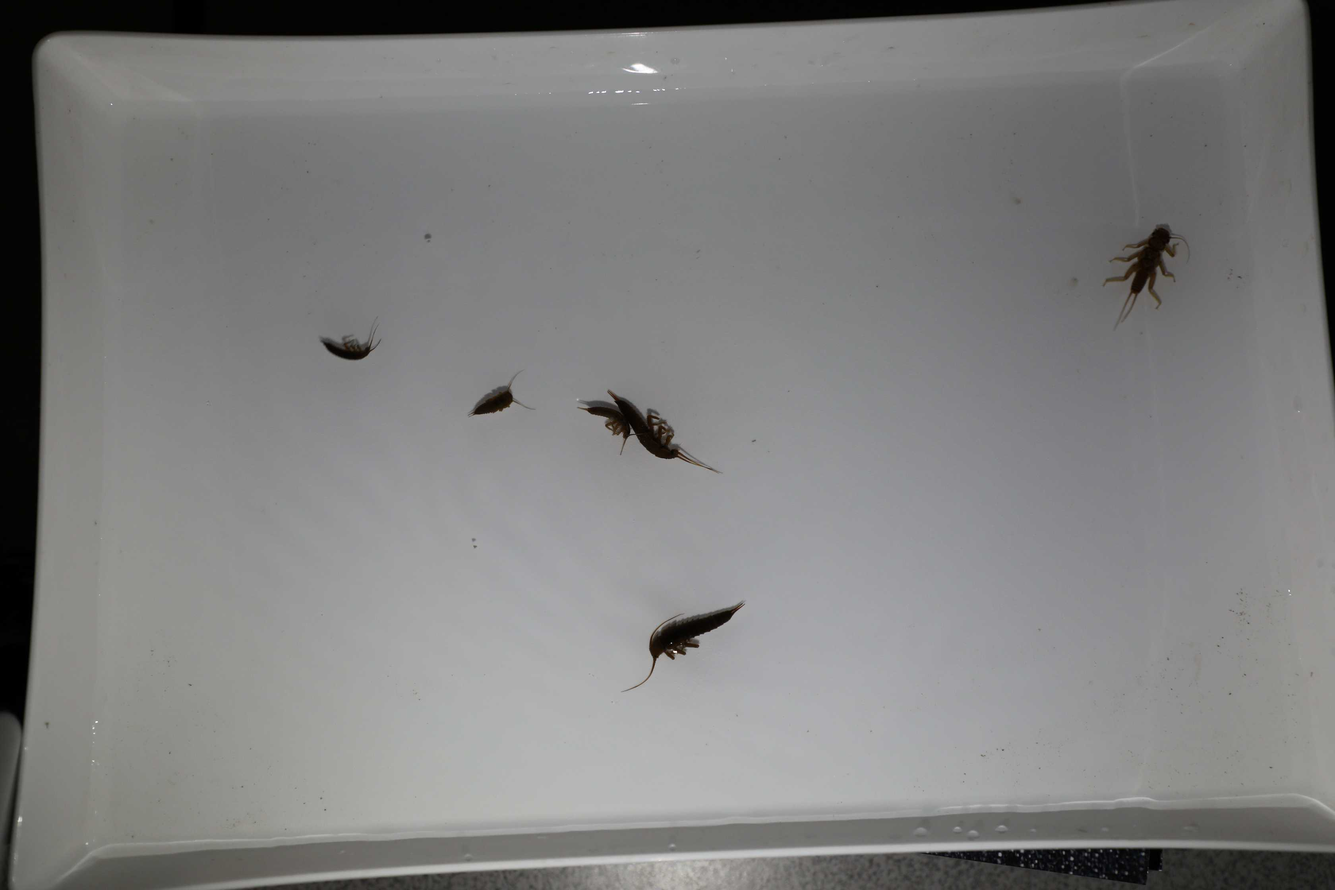Stonefly: (619, 599, 738, 694), (611, 388, 718, 474), (1100, 221, 1177, 332), (467, 367, 535, 423), (575, 398, 632, 457), (319, 324, 381, 367)
